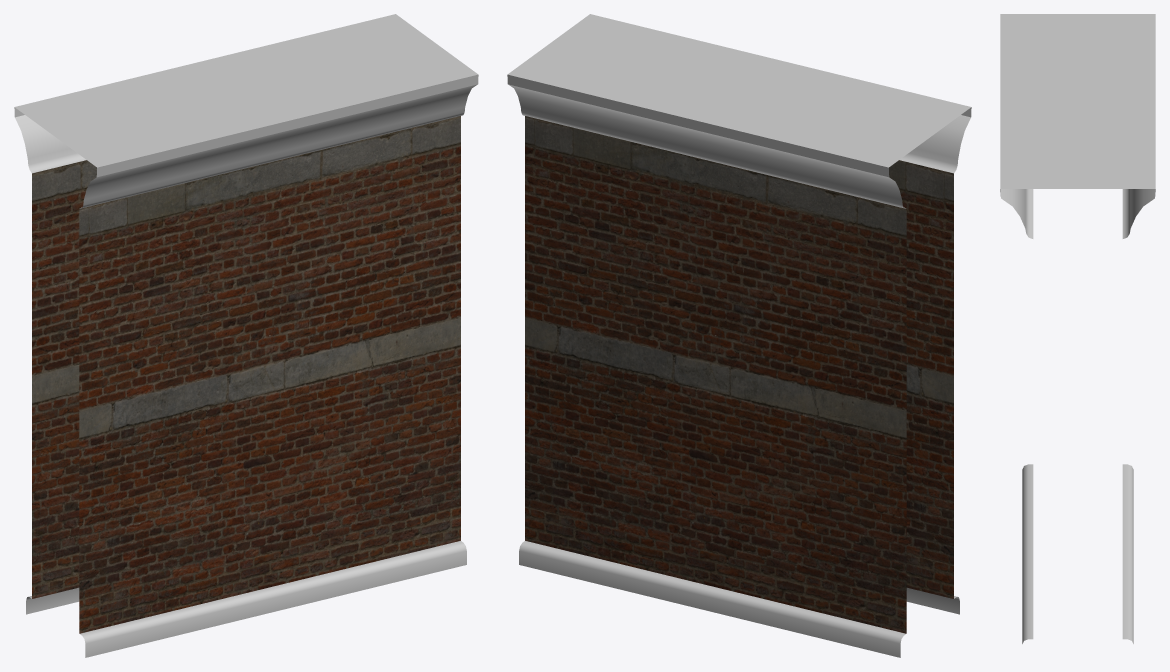
Rendered from msp_tunnel_wall_modular.fbx.
3 renders of one model, left to right at view 1: azimuth 30°, elevation 25°; view 2: azimuth 150°, elevation 25°; view 3: azimuth 270°, elevation 25°, orthographic. The views are drawn at different scales.
Visible parts, largest first — view 1: msp_tunnel_wall_modular; view 2: msp_tunnel_wall_modular; view 3: msp_tunnel_wall_modular.
Boxes of the visible parts, bbox=[...] form: msp_tunnel_wall_modular: bbox=[14, 14, 478, 657]; msp_tunnel_wall_modular: bbox=[507, 14, 971, 657]; msp_tunnel_wall_modular: bbox=[1000, 14, 1155, 643].
Size of the model in its own units: 4 by 5 by 1.5.
